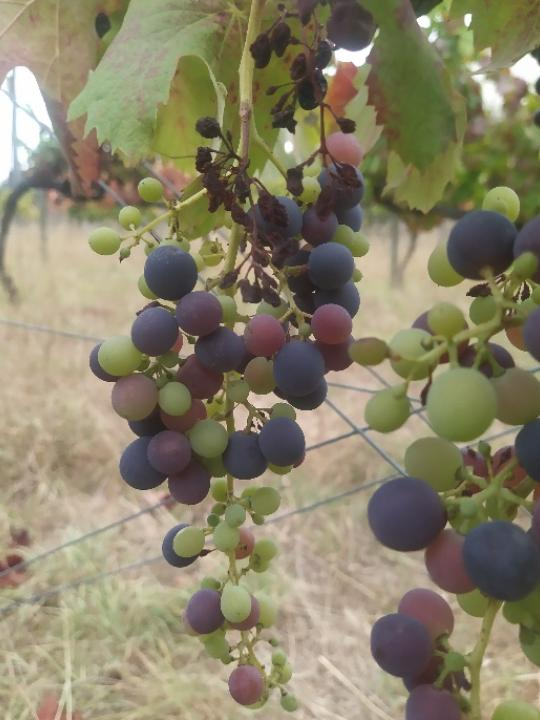grape: (87, 119, 372, 714), (247, 0, 388, 223)
